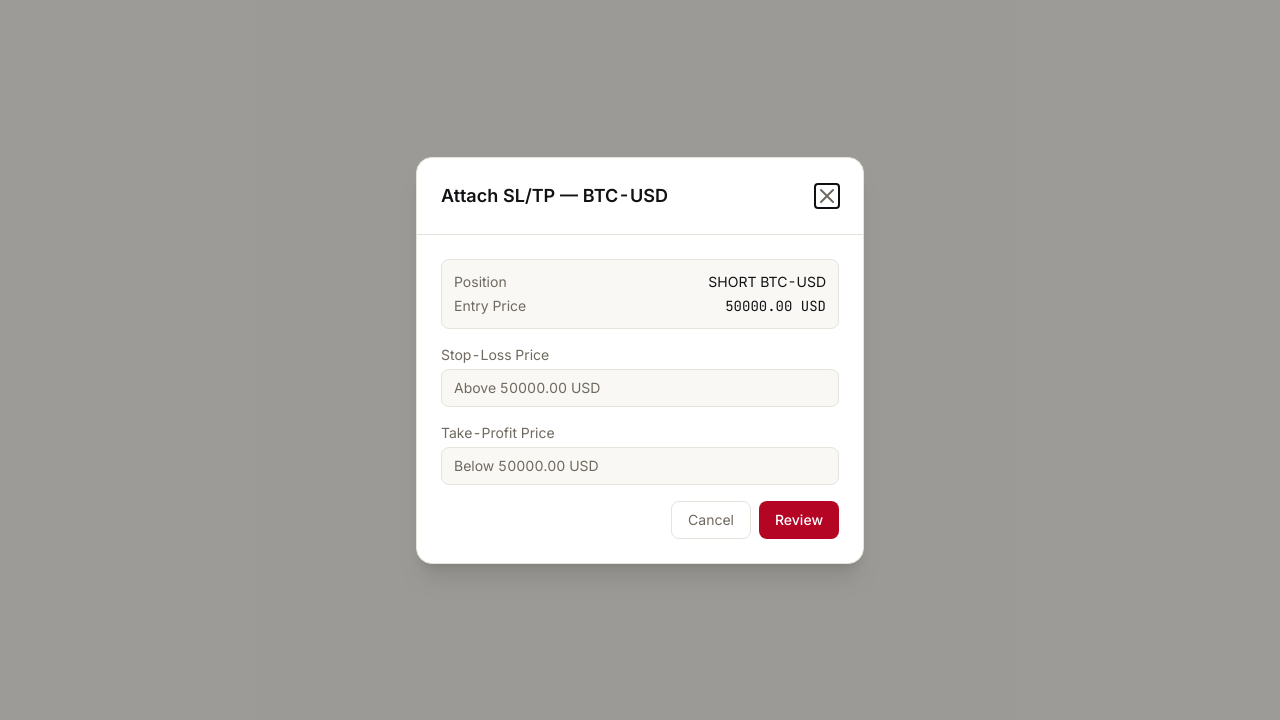
Test: AttachBracketModal › validates TP below entry for SHORT
The width and height of the screenshot is (1280, 720).
Type "55000" into the number field with test id "tp-price-input".
click(640, 466); type("55000")  # box top-left (441, 446), bottom-right (839, 484)
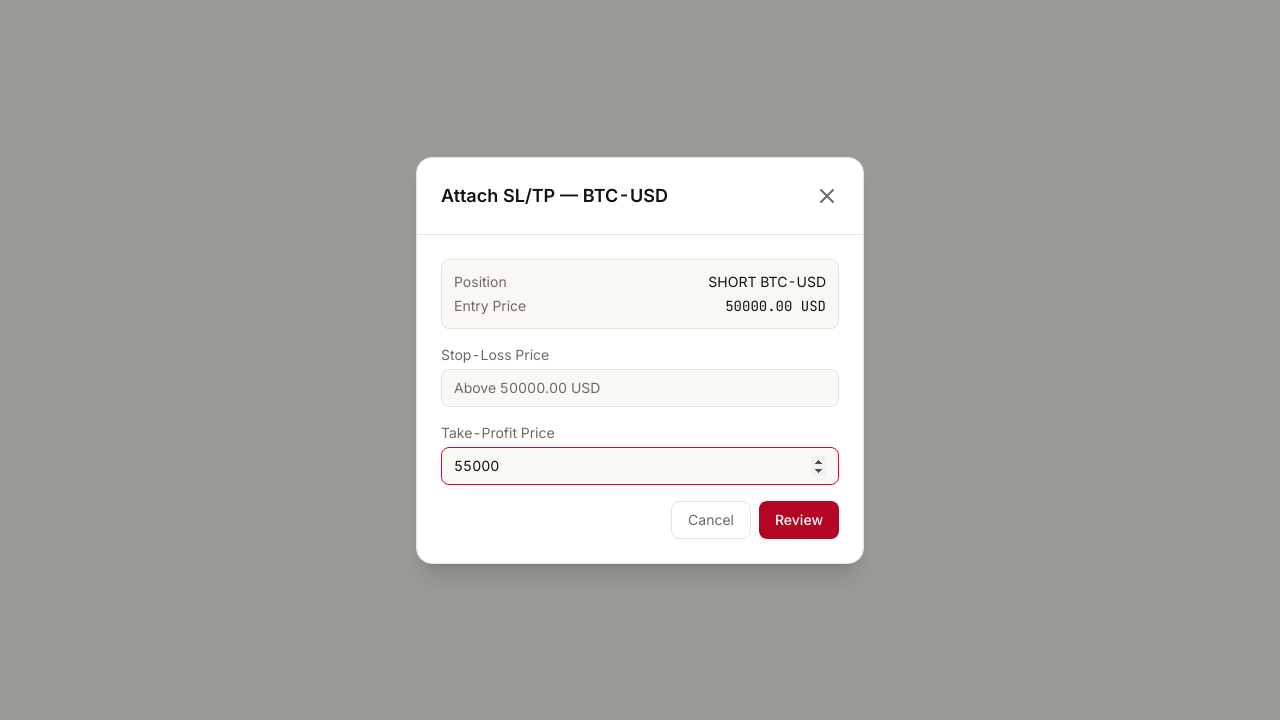
Click the button with test id "bracket-submit".
click(799, 520)  # box top-left (759, 500), bottom-right (839, 538)
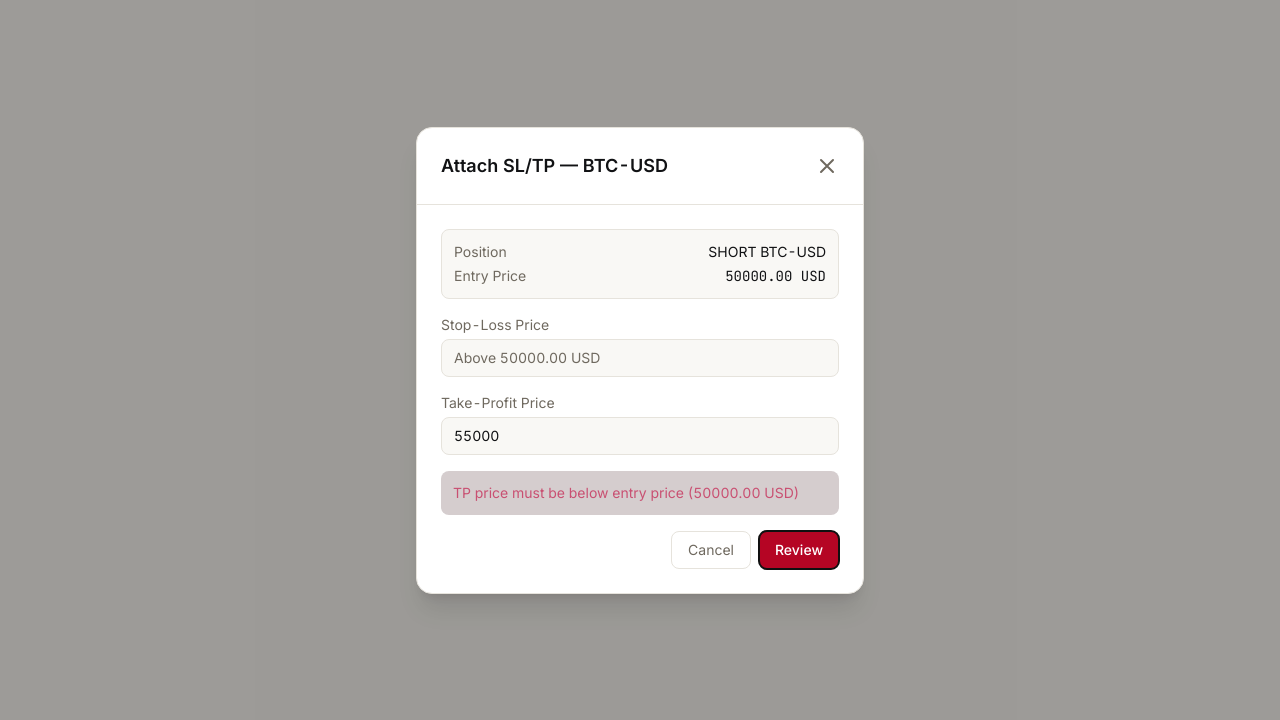
Expected: the text with test id "bracket-error" shows "TP price must be below entry", top-left (453, 484), bottom-right (799, 500)
